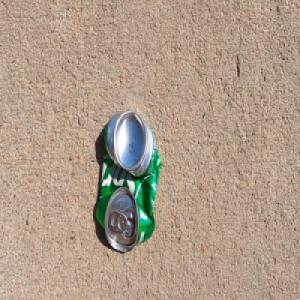SodaCan: (94, 108, 162, 253)
